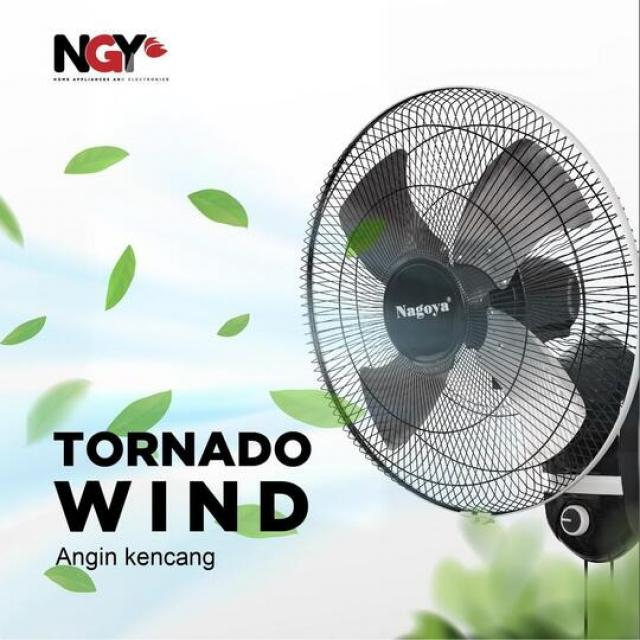fan: (292, 66, 640, 569)
